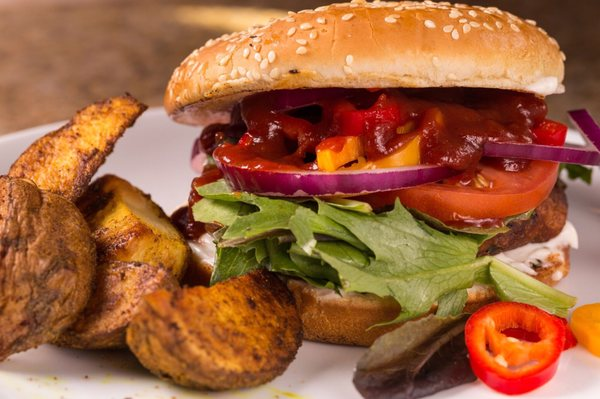soup: (164, 0, 592, 356)
